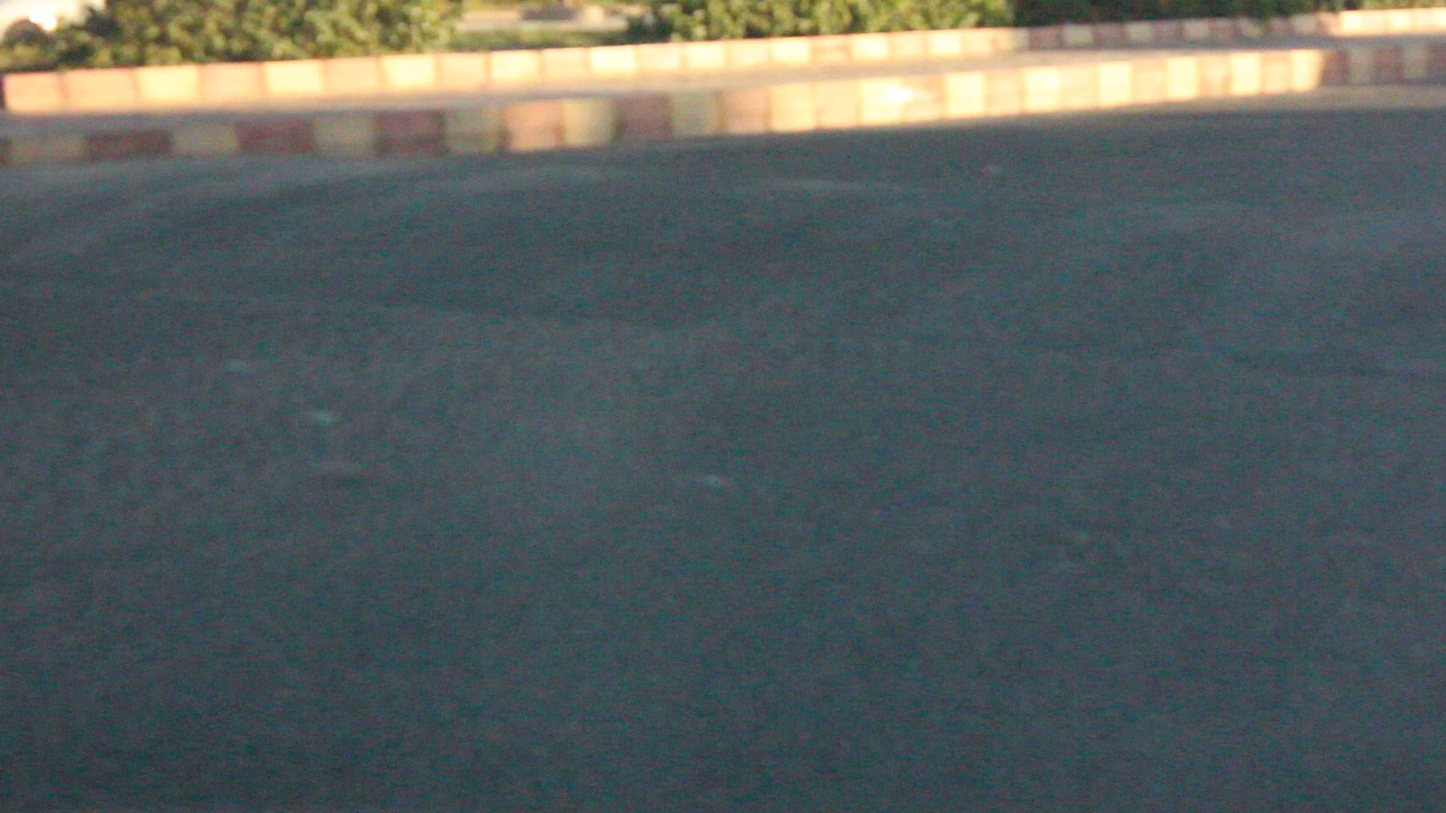Bump: (0, 102, 1446, 395)
